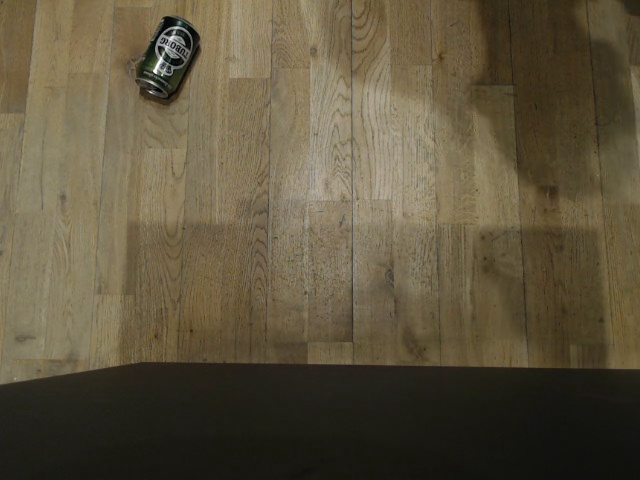beer: (133, 14, 203, 101)
